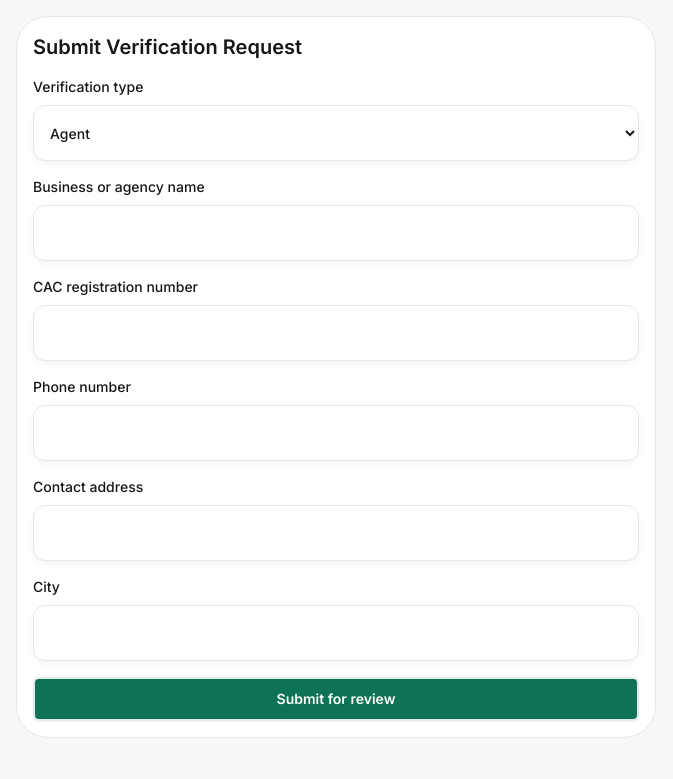
Test case: Verification Zod 4 integration › keeps invalid browser numeric input  from submitting artisan verification
This screenshot has width=673, height=779.
Select "Artisan" in the dropdown labelled "Verification type" at coordinates (336, 133), box [33,105,639,161]
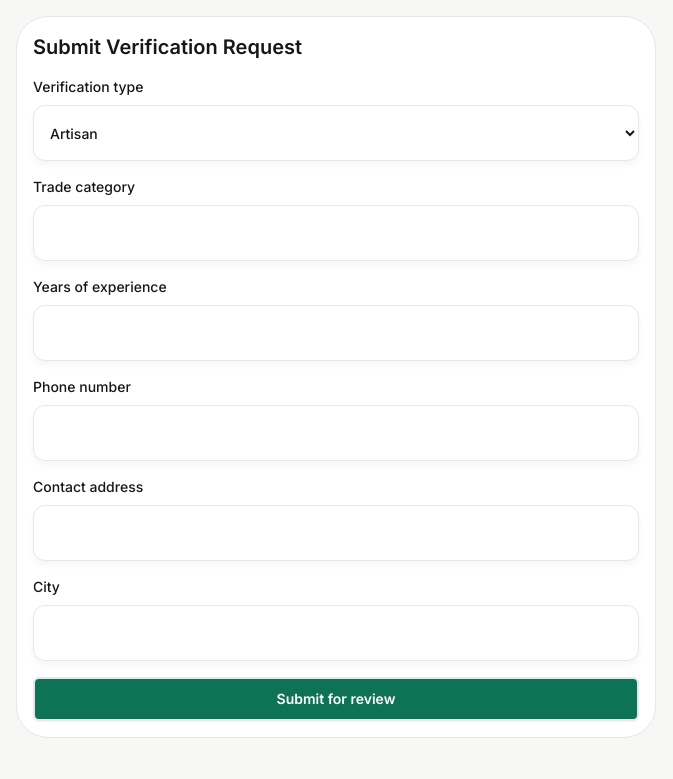
Type "08012345678" into the field labelled "Phone number".
click(336, 433); type("08012345678")  # box [33,405,639,461]
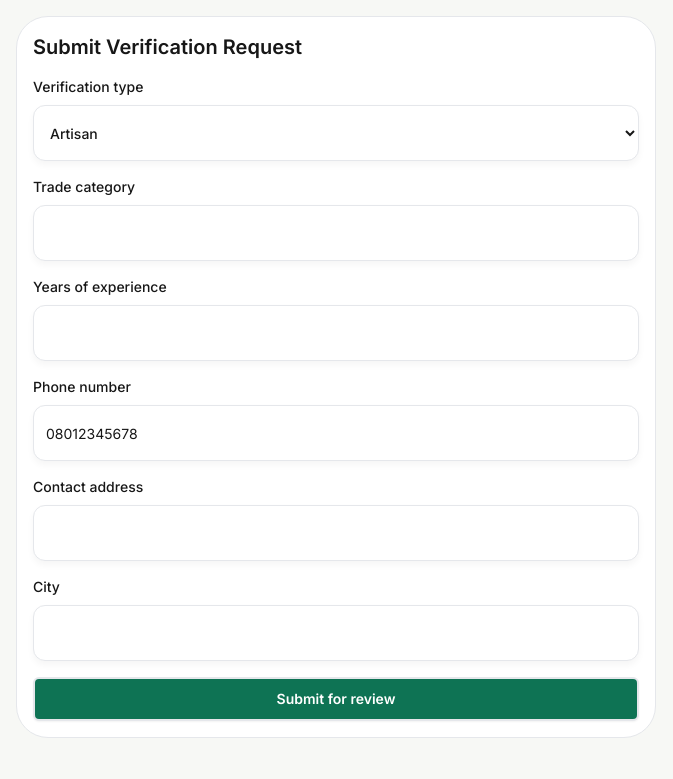
Type "  Admiralty Way  " into the field labelled "Contact address".
click(336, 533); type("  Admiralty Way  ")  # box [33,505,639,561]
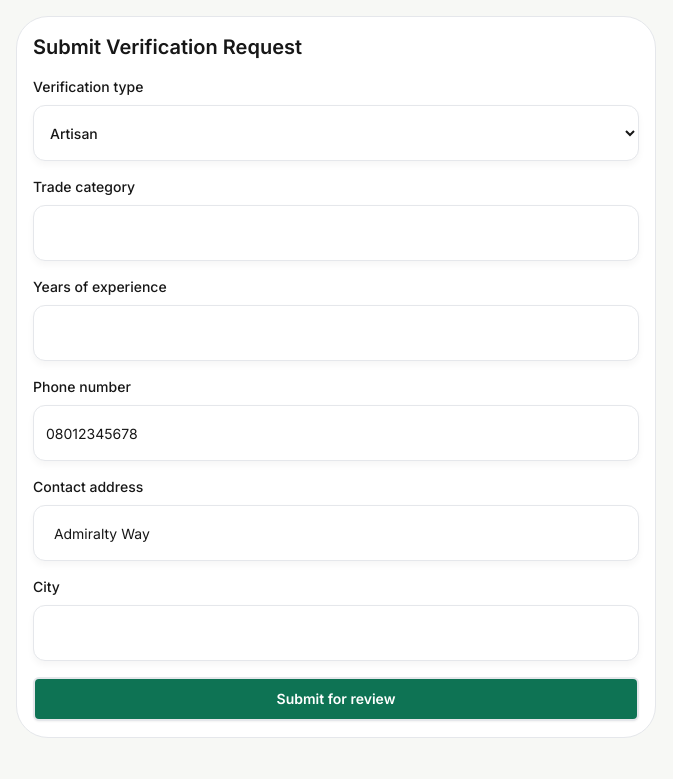
Type "  Lagos  " into the field labelled "City".
click(336, 633); type("  Lagos  ")  # box [33,605,639,661]
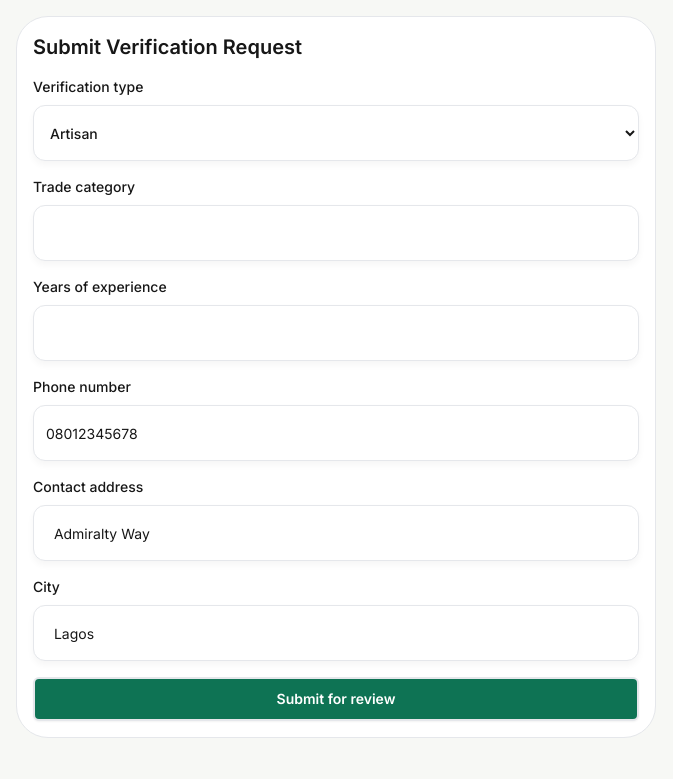
Type "Plumber" into the field labelled "Trade category".
click(336, 233); type("Plumber")  # box [33,205,639,261]
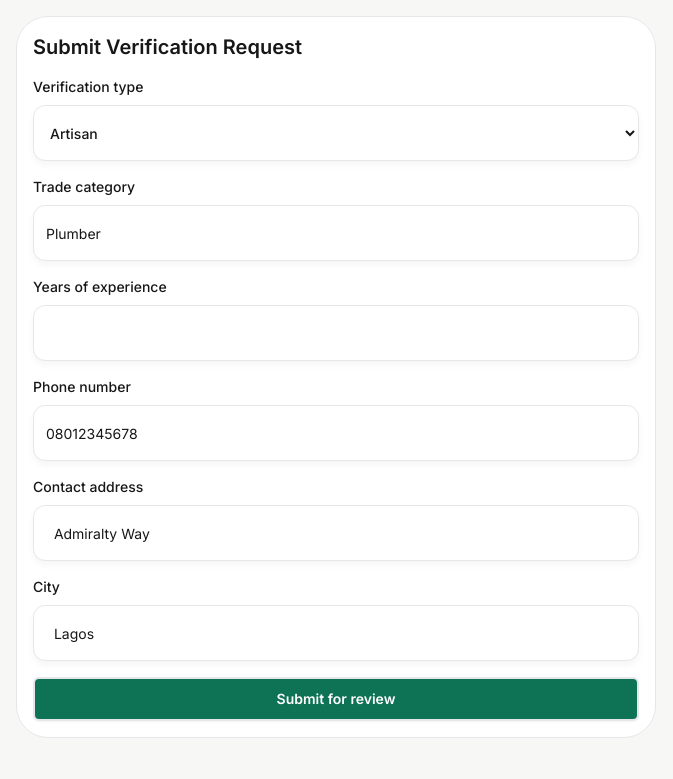
Submit the form named "Submit for review"
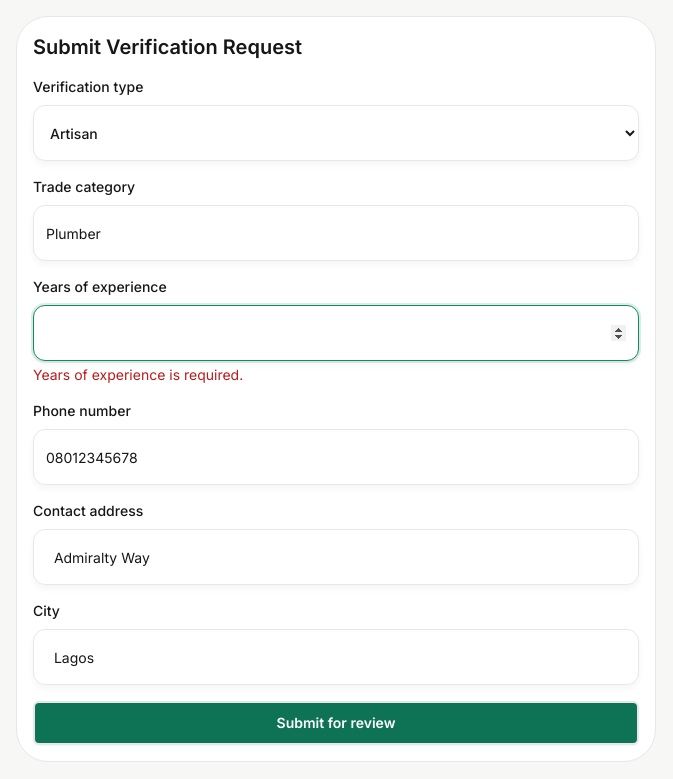
Expected: the text "Years of experience is required." is shown, [33,366,243,383]
